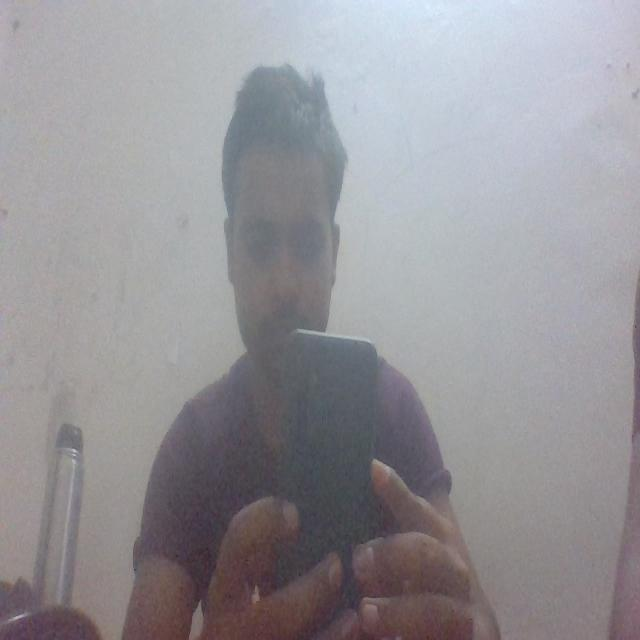Phone: (273, 326, 386, 550)
